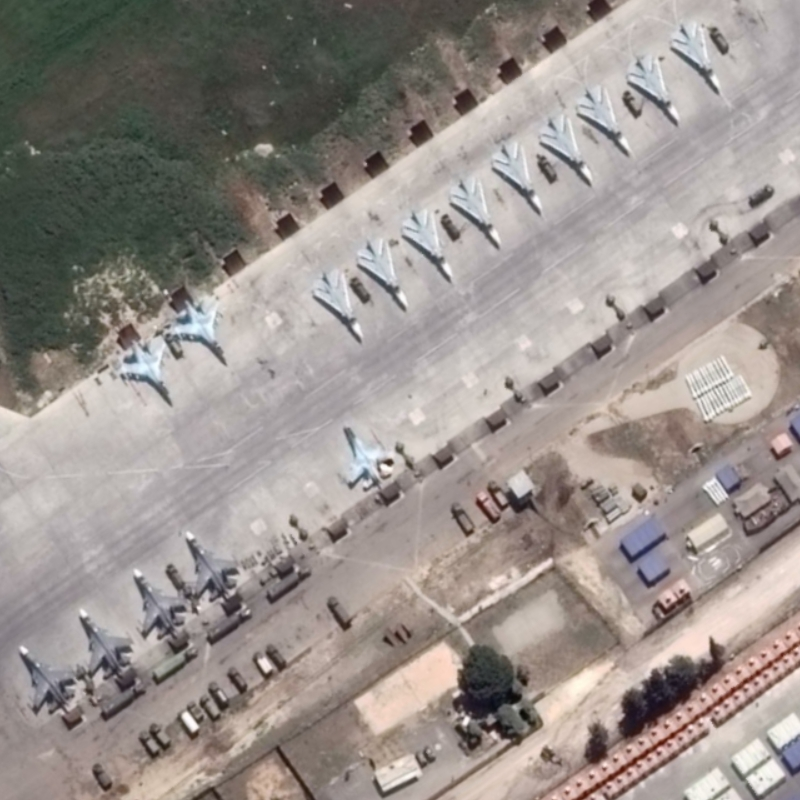A1: (162, 294, 231, 369), (113, 336, 178, 410), (339, 423, 396, 494)
A19: (15, 640, 89, 718), (182, 527, 242, 606), (129, 562, 189, 641), (75, 606, 134, 679)
A20: (622, 48, 688, 129), (310, 259, 367, 347), (354, 234, 415, 314), (573, 79, 634, 158), (399, 203, 457, 285), (537, 112, 597, 189), (669, 17, 726, 97), (448, 173, 503, 252), (488, 141, 544, 218)
